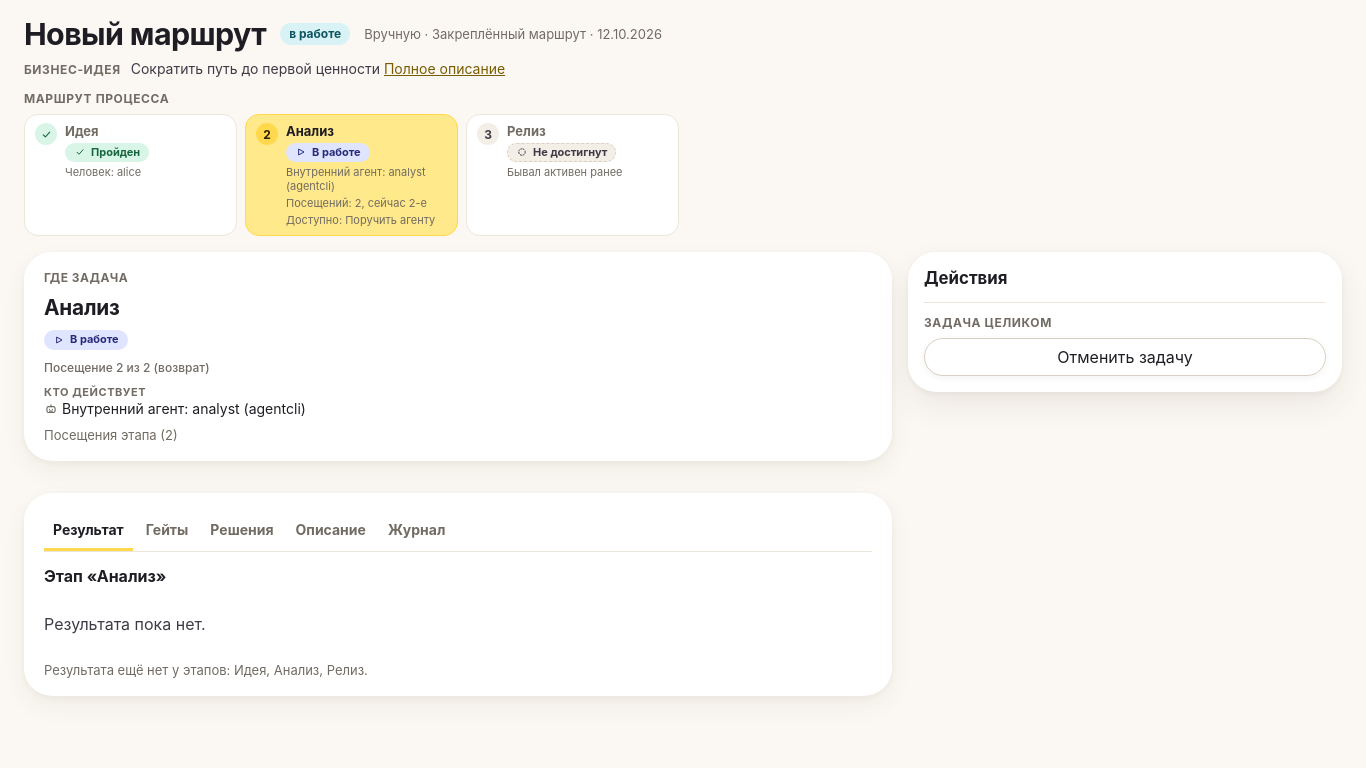
it: Task detail stage statuses (S11) › shows the computed status, the executor and the visits in the route and the current stage
Expected: the text "Пройден" is shown, [65,143,149,162]
Expected: the text "В работе" below "Маршрут процесса" is shown, [312,145,361,159]
Step 1. Click the heading "Посещения этапа (2)" → (111, 434), box [44,426,178,442]
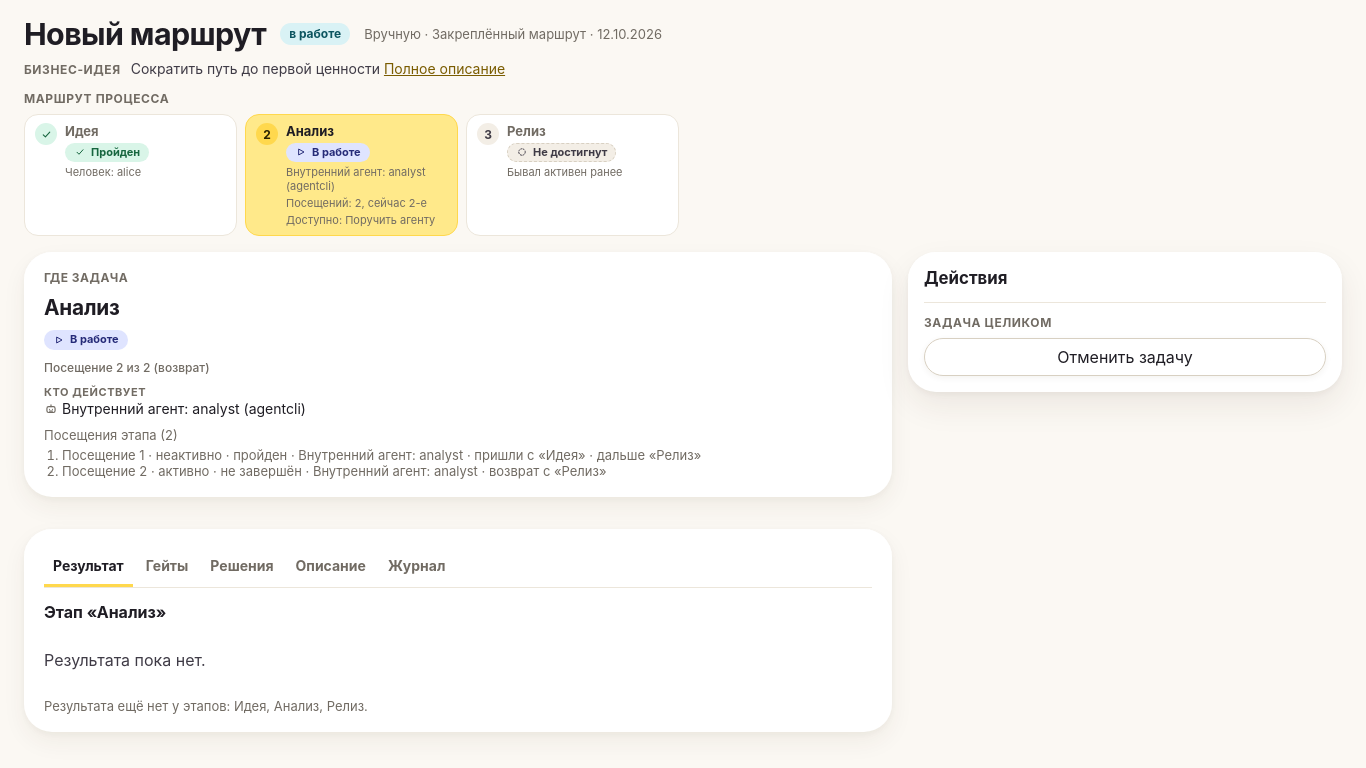
Now the list item "Посещение 1 · неактивно · пройден" is shown, box [62,446,701,462]
Now the list item "Посещение 2 · активно · не завершён · Внутренний агент: analyst · возврат с «Релиз»" is shown, box [62,462,606,478]
